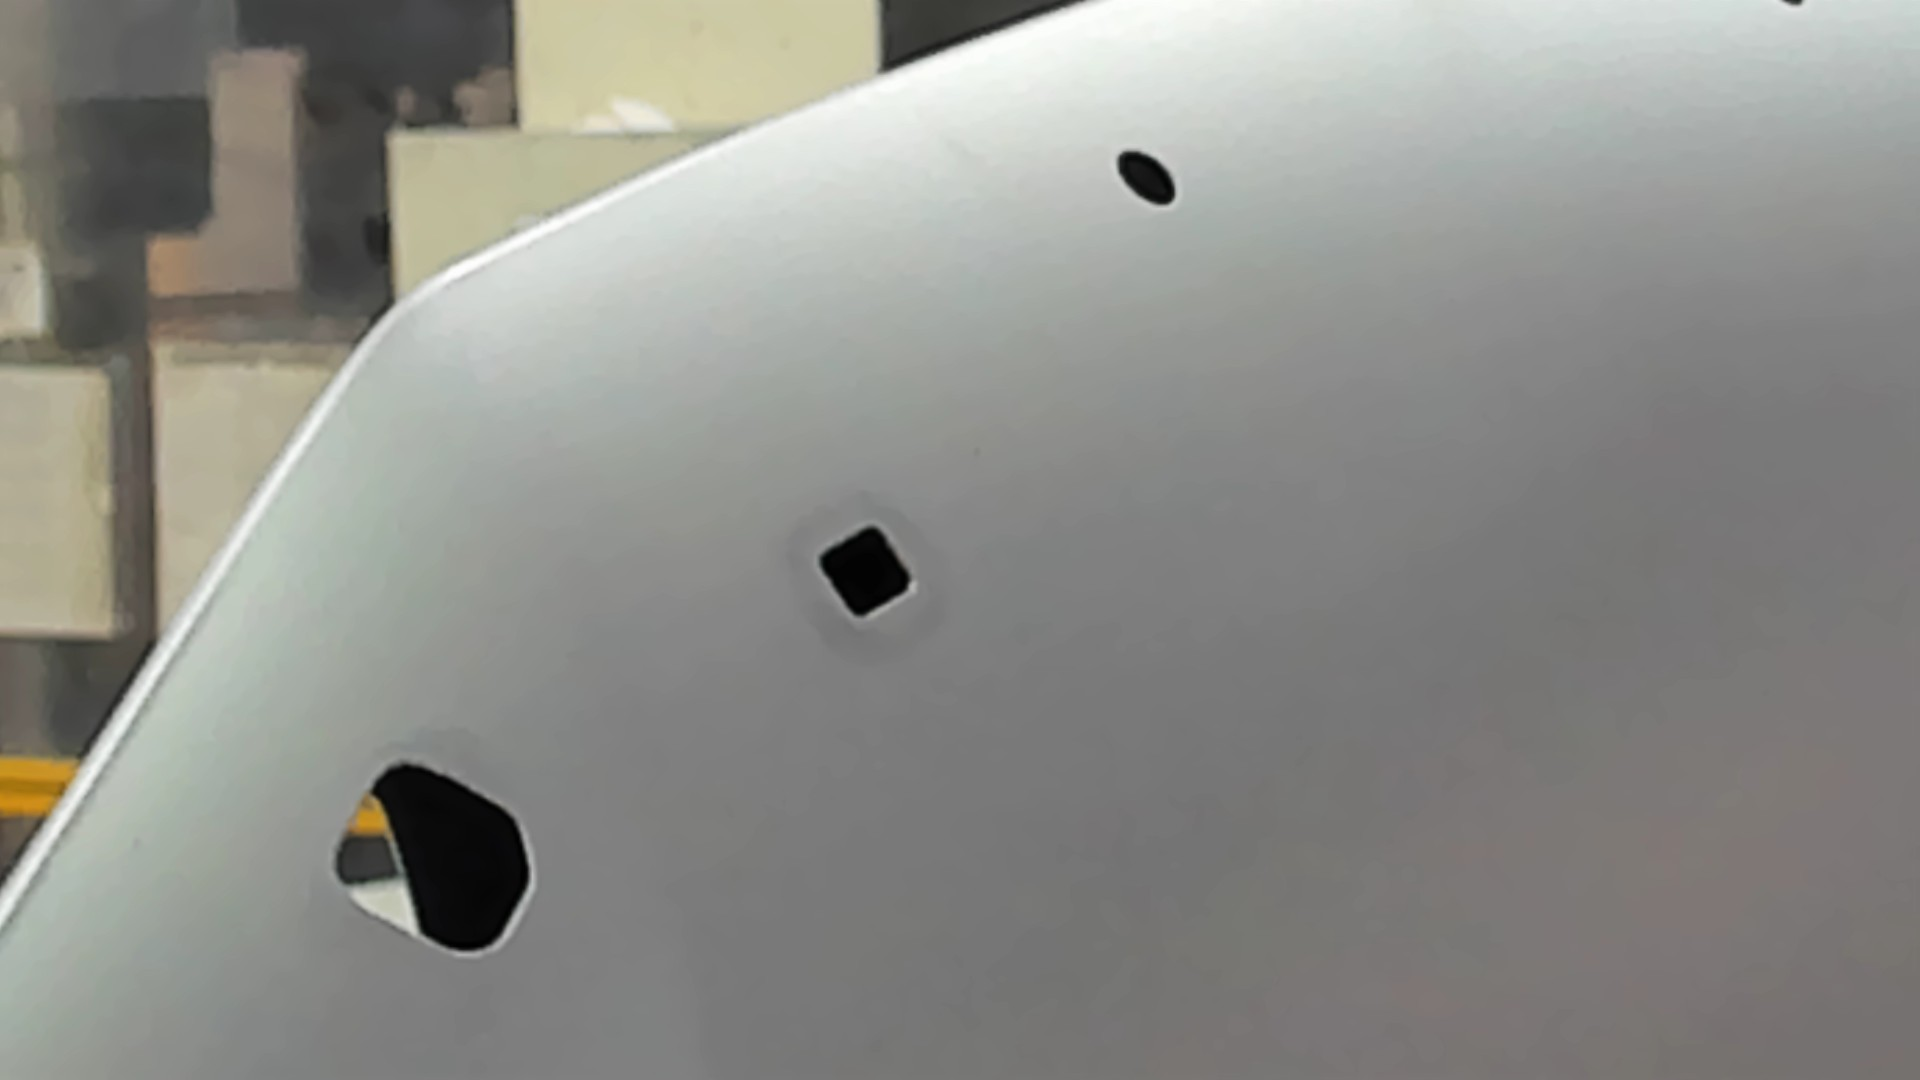chico: (1114, 149, 1180, 208)
grande: (324, 756, 542, 968)
mediano: (807, 517, 924, 632)
